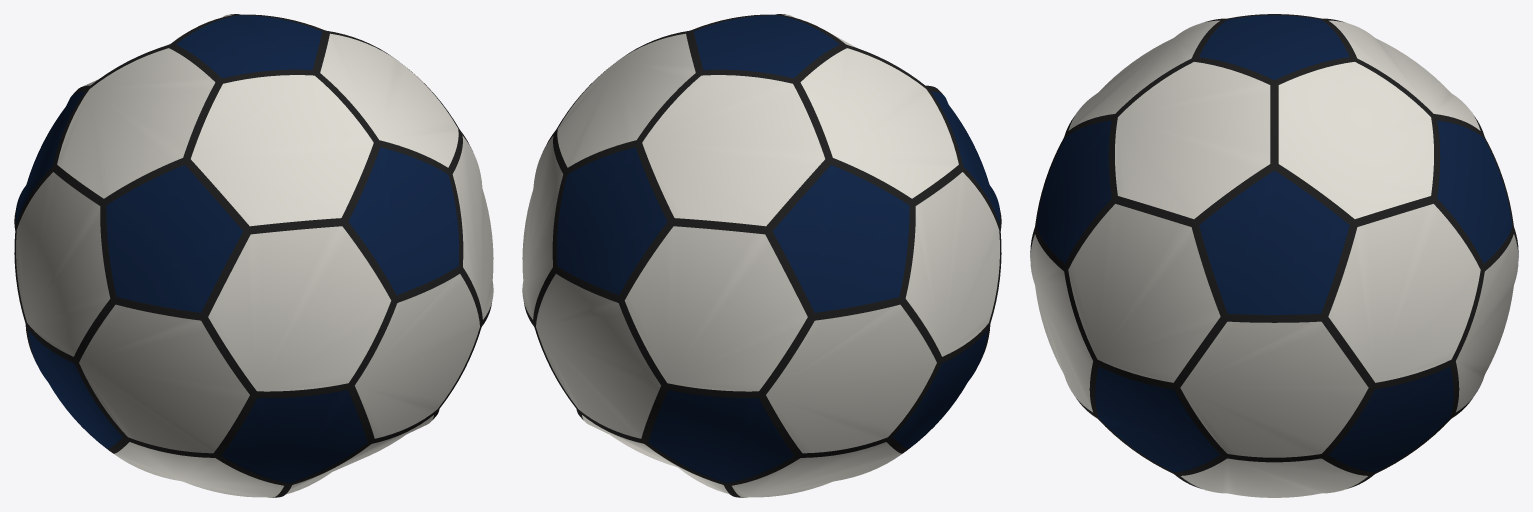
The model's file is ball.fbx.
3 views of the same model, side by side, from view 1: azimuth 30°, elevation 25°; view 2: azimuth 150°, elevation 25°; view 3: azimuth 270°, elevation 25° (orthographic).
Visible parts, largest first — view 1: Ball; view 2: Ball; view 3: Ball.
Part boxes in pixels (x1=…): Ball: x1=14, y1=14, x2=493, y2=497; Ball: x1=522, y1=14, x2=1001, y2=497; Ball: x1=1030, y1=14, x2=1518, y2=497.
Size of the model in its own units: 0.2172 by 0.212 by 0.22.
